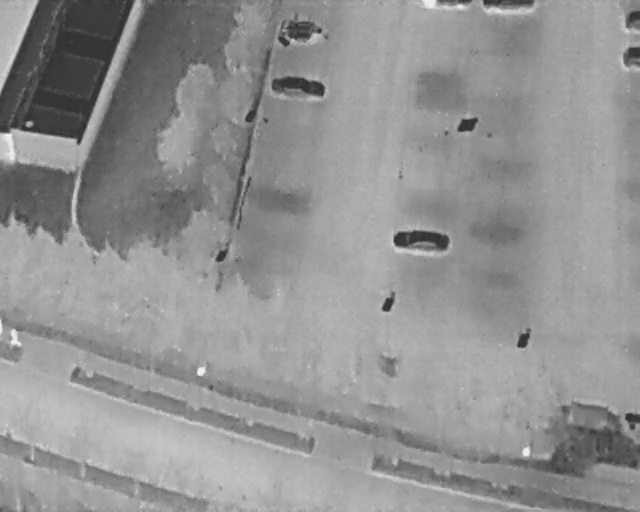Car: (557, 401, 638, 459), (268, 72, 326, 104), (390, 226, 451, 254), (276, 17, 327, 44), (482, 0, 537, 9), (622, 46, 640, 68), (624, 10, 640, 31)
Person: (9, 326, 21, 347)
